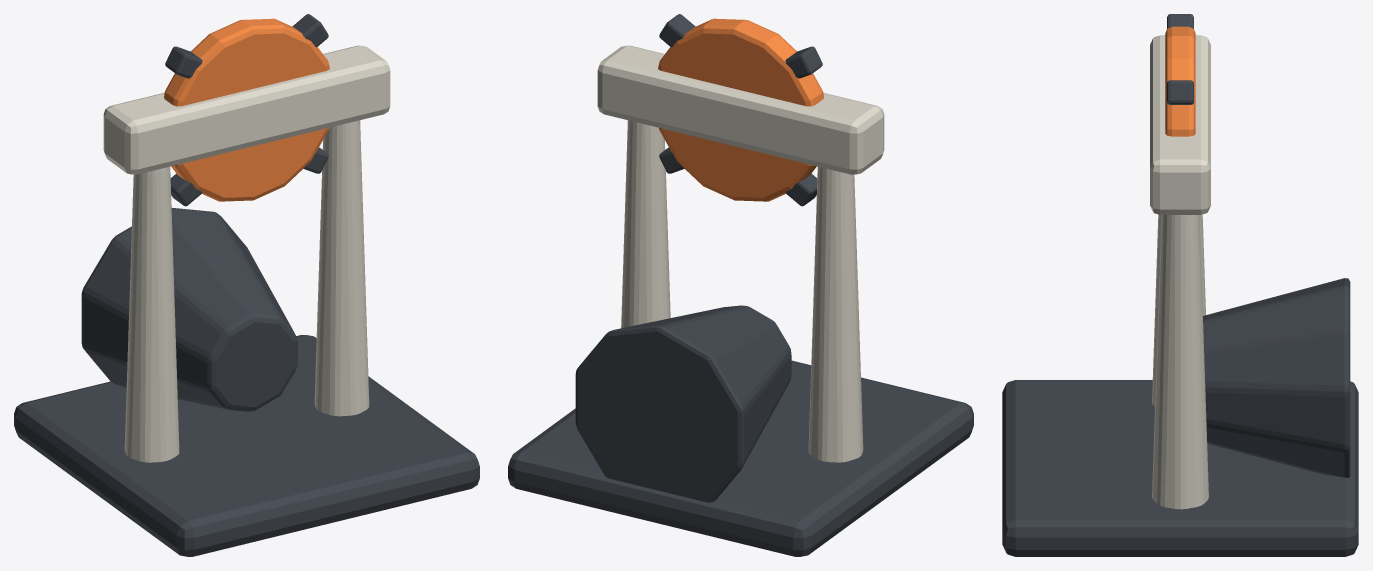
Rendered from human_mine.glb.
3 renders of one model, left to right at view 1: azimuth 30°, elevation 25°; view 2: azimuth 150°, elevation 25°; view 3: azimuth 270°, elevation 25°, orthographic. The views are drawn at different scales.
Parts seen in each view (by area): view 1: extractor_pad, ore_chute, gantry_beam, extractor_wheel, gantry, gantry.001, wheel_spoke.002, wheel_spoke.001, wheel_spoke.004; view 2: extractor_pad, ore_chute, gantry_beam, extractor_wheel, gantry, gantry.001, wheel_spoke.002, wheel_spoke.001, wheel_spoke.004; view 3: extractor_pad, ore_chute, gantry.001, gantry_beam, extractor_wheel, gantry, wheel_spoke.001.
Boxes of the visible parts, x1,y1,x2,y2 form: extractor_pad: (14,335,479,556); ore_chute: (81,208,297,411); gantry_beam: (103,45,390,174); extractor_wheel: (164,18,329,201); gantry: (124,166,179,462); gantry.001: (314,120,369,416); wheel_spoke.002: (165,46,202,78); wheel_spoke.001: (292,14,328,46); wheel_spoke.004: (170,173,202,206); extractor_pad: (508,360,973,556); ore_chute: (575,305,791,502); gantry_beam: (597,45,884,174); extractor_wheel: (658,18,823,201); gantry: (808,166,863,462); gantry.001: (621,120,670,328); wheel_spoke.002: (785,46,822,78); wheel_spoke.001: (659,14,695,46); wheel_spoke.004: (785,173,817,206); extractor_pad: (1002,380,1358,556); ore_chute: (1203,278,1350,477); gantry.001: (1152,215,1208,509); gantry_beam: (1150,35,1210,214); extractor_wheel: (1165,26,1195,136); gantry: (1152,214,1205,406); wheel_spoke.001: (1167,80,1193,104).
Bounding box in the file's own units: 2.1 × 2.93 × 2.1.
